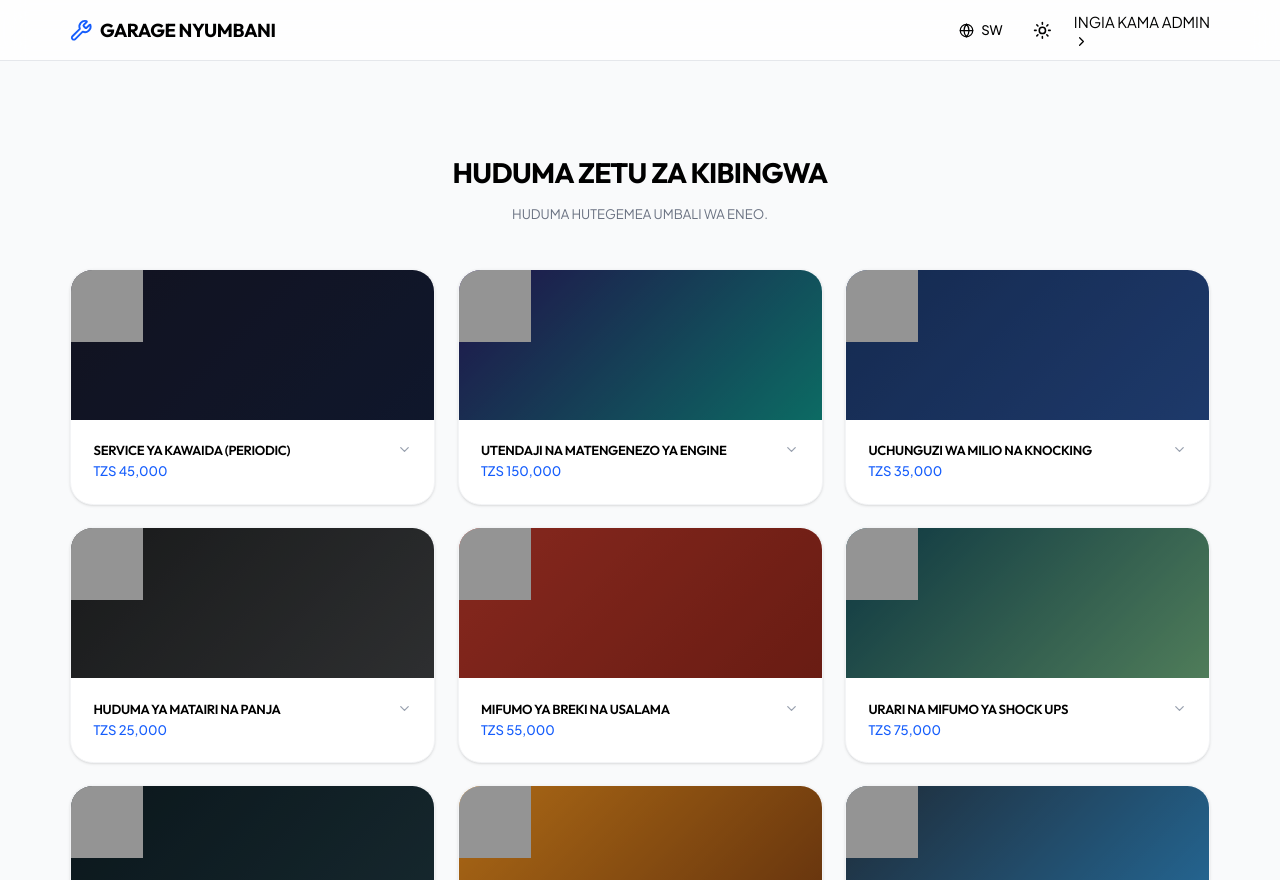
it: CustomerLanding — Phase 2 › Service Catalog › shows description when service card is expanded
(page scrolled)
Click the heading "SERVICE YA KAWAIDA (PERIODIC)".
click(192, 450)  # box [94,442,290,458]
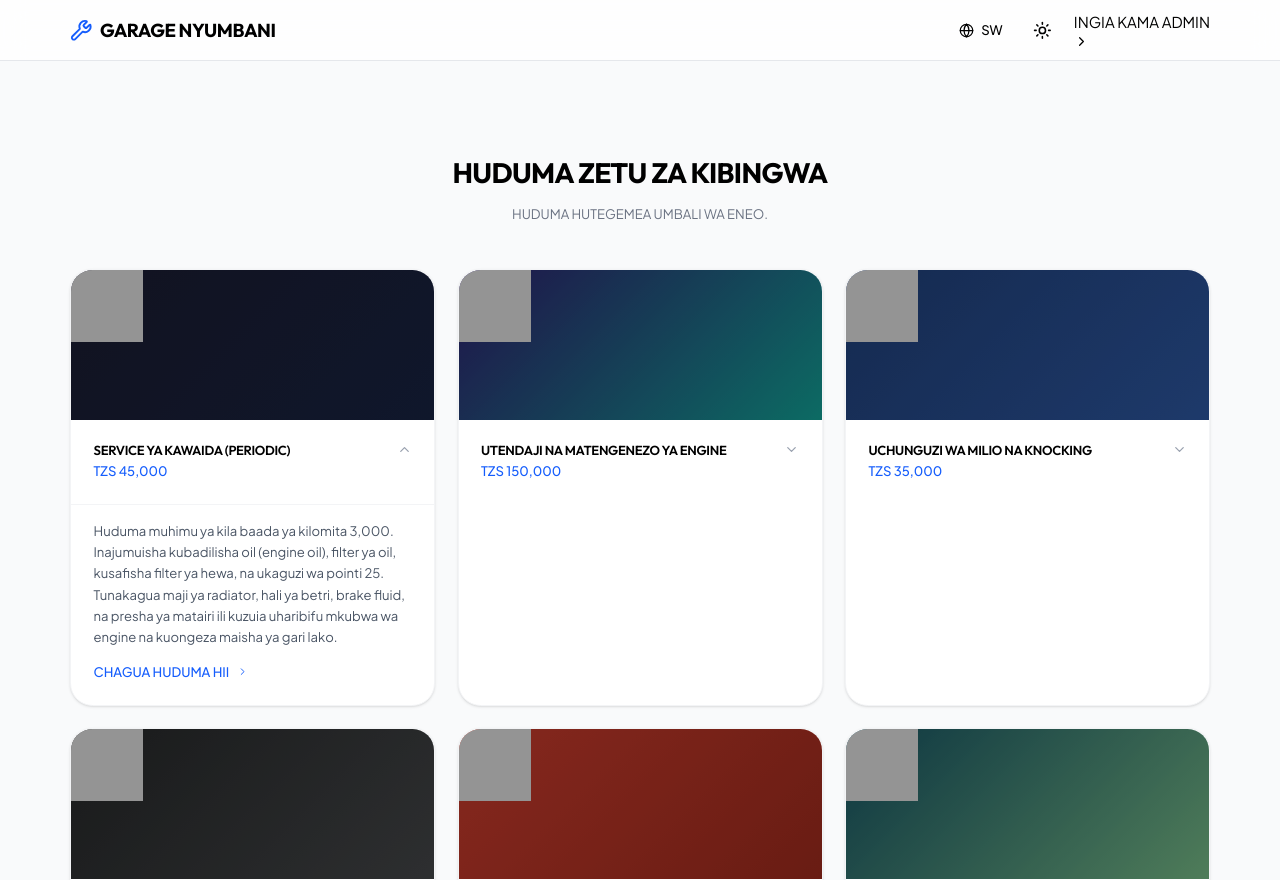
Expected: the text "Huduma muhimu ya kila baada ya kilomita 3,000. Inajumuisha kubadilisha oil (engine oil), filter ya oil, kusafisha filter" is shown, [94,522,405,645]
